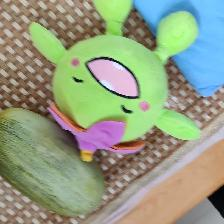gua: (16, 123, 55, 182)
